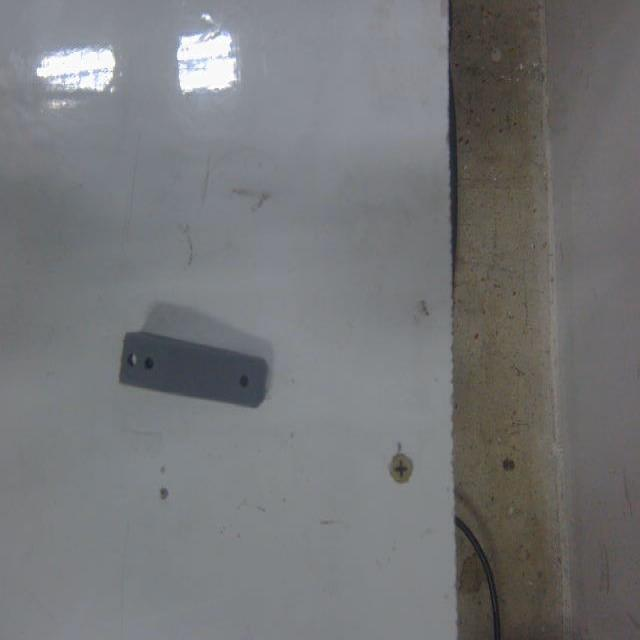grey: (118, 328, 268, 411)
head: (239, 373, 251, 390)
